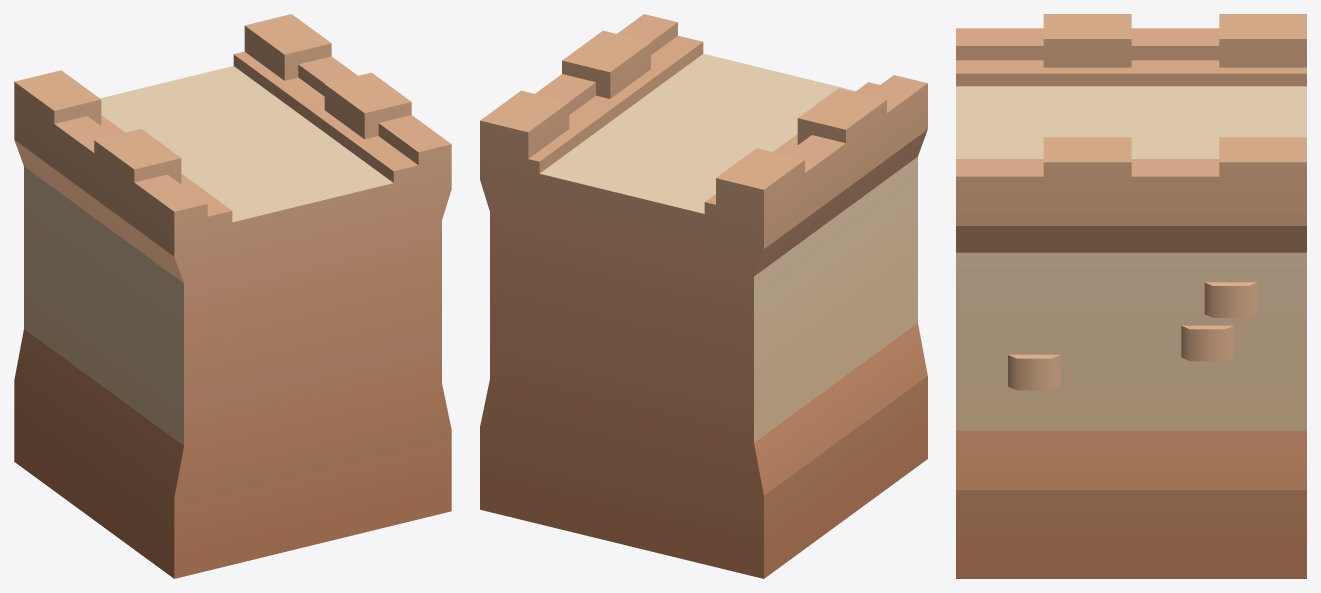
Rendered from mur.glb.
3 views of the same model, side by side, from view 1: azimuth 30°, elevation 25°; view 2: azimuth 150°, elevation 25°; view 3: azimuth 270°, elevation 25° (orthographic). The views are drawn at different scales.
Visible parts, largest first — view 1: wall; view 2: wall; view 3: wall.
Boxes of the visible parts, bbox=[...] form: wall: bbox=[14, 14, 451, 578]; wall: bbox=[480, 14, 927, 578]; wall: bbox=[956, 14, 1306, 578].
Bounding box in the file's own units: 1 × 1.31 × 1.
Materials: 1 (1 with a texture image).
